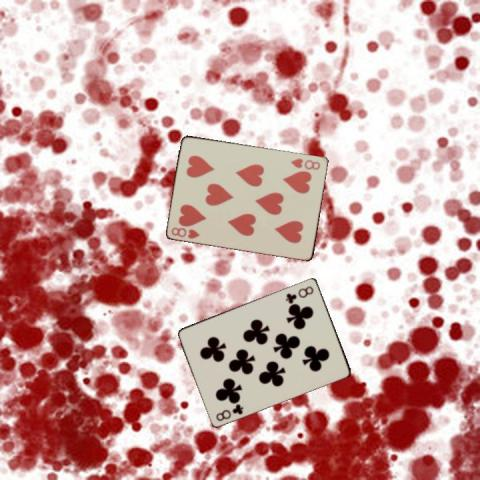8c: (283, 283, 315, 304), (212, 401, 244, 422)
8h: (288, 156, 322, 172), (169, 224, 201, 240)
